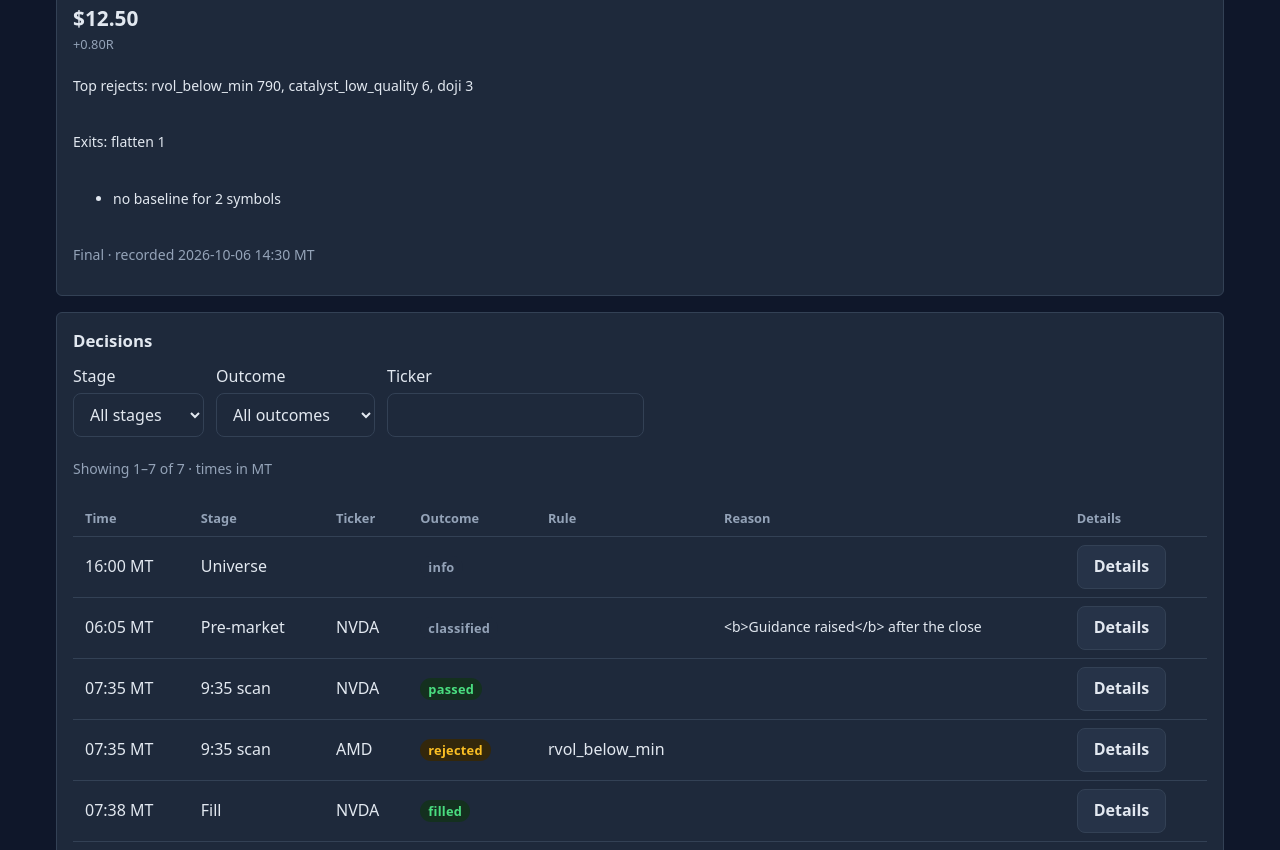
Test: Reports Day view › a filter that matches nothing says so and keeps the summary
(page scrolled)
Select "Kill switch" in the dropdown labelled "Stage" at (138,415), box [73,393,204,437]
(page scrolled)
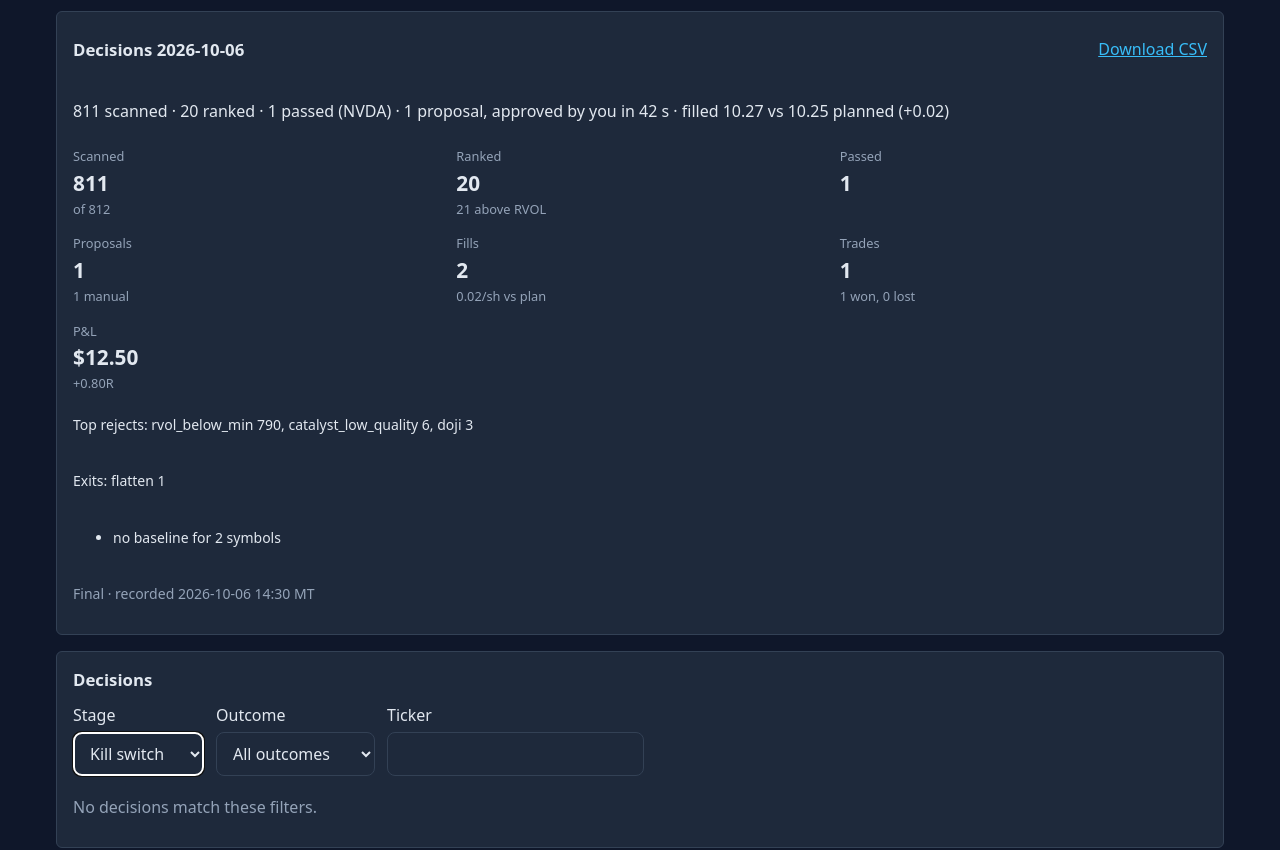
Expected: the text "811 scanned · 20 ranked · 1 passed (NVDA) · 1 proposal, approved by you in 42 s · filled 10.27 vs 10.25 planned (+0.02)" is shown, [73,100,949,122]
Now the text "No decisions match these filters." is shown, box [73,796,317,818]
